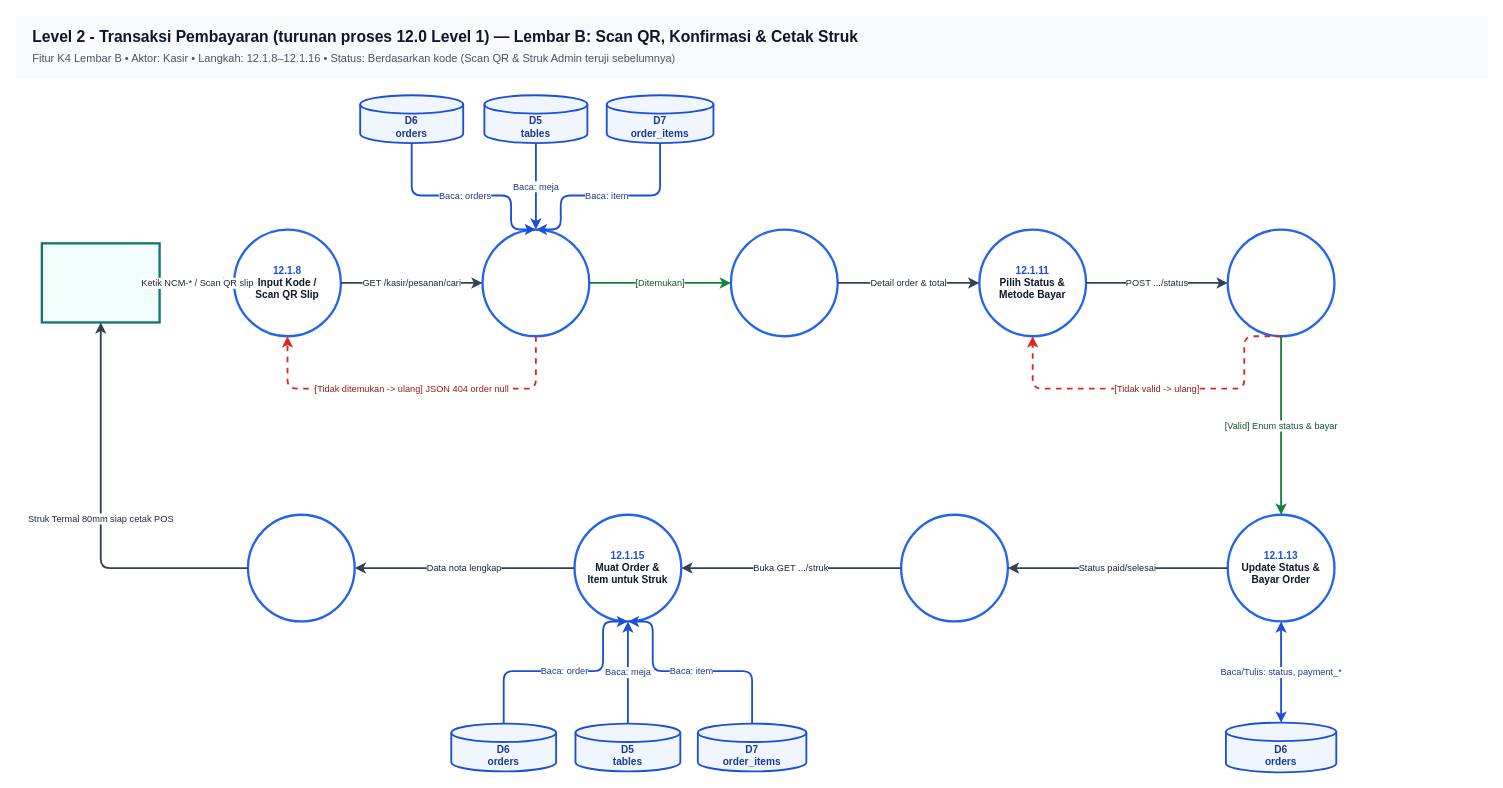
The diagram is 1503 pixels wide and 788 high, and some of its shapes have lost their labels. Here are the shapes that lost their labels. From the top down, the centre of each, then its label:
At point 100,282: "Kasir Operator POS".
At point 535,282: "12.1.9 Ekstrak Kode & Cari Order".
At point 783,282: "12.1.10 Tampil Detail Order & Tagihan".
At point 1280,282: "12.1.12 Validasi Enum Status & Bayar".
At point 300,567: "12.1.16 Cetak Struk Termal 80mm POS".
At point 954,567: "12.1.14 Kirim Konfirmasi Pembayaran".
